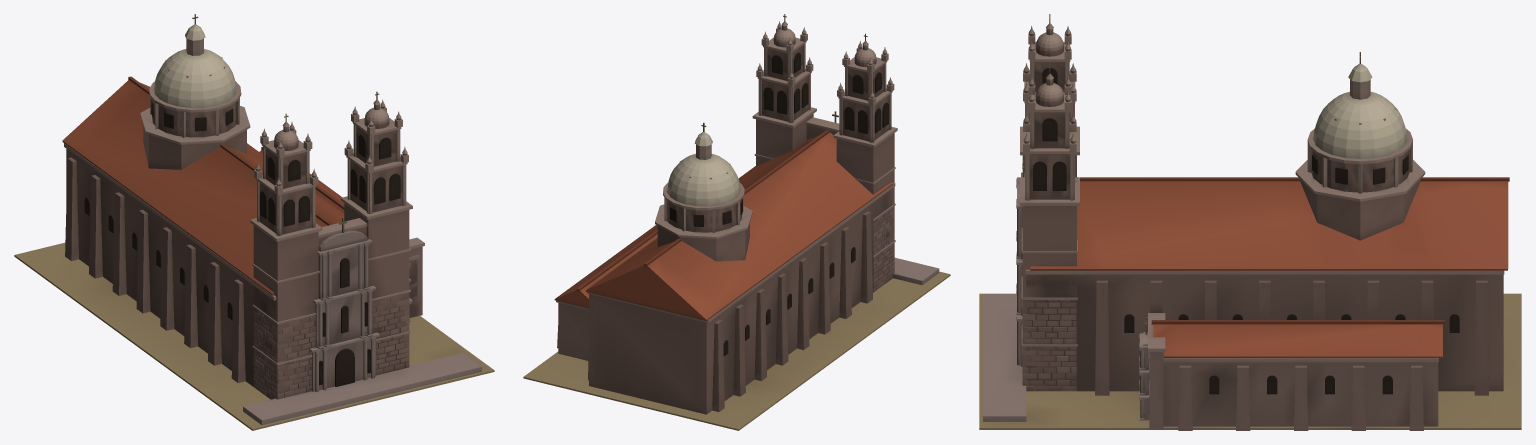
File: la-compania.glb
3 renders of one model, left to right at view 1: azimuth 30°, elevation 25°; view 2: azimuth 150°, elevation 25°; view 3: azimuth 270°, elevation 25°, orthographic. The views are drawn at different scales.
Parts seen in each view (by area): view 1: p1_church, p0_ground, p2_chapel; view 2: p1_church, p0_ground, p2_chapel; view 3: p1_church, p2_chapel, p0_ground.
Boxes of the visible parts, box(x1,y1,x2,y2) form: p1_church: box(62, 14, 412, 399); p0_ground: box(14, 242, 494, 430); p2_chapel: box(259, 146, 424, 322); p1_church: box(585, 14, 897, 414); p0_ground: box(523, 257, 950, 430); p2_chapel: box(554, 225, 657, 360); p1_church: box(1016, 14, 1509, 395); p2_chapel: box(1139, 313, 1444, 430); p0_ground: box(979, 293, 1521, 429).
Size of the model in its own units: 44.9 by 48.43 by 75.
